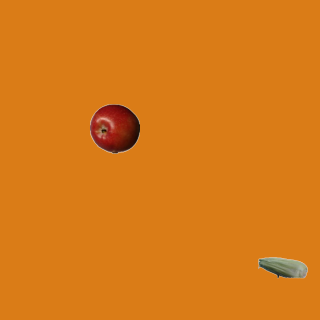Apple Braeburn: (89, 103, 139, 153)
Corn Husk: (257, 242, 307, 292)
